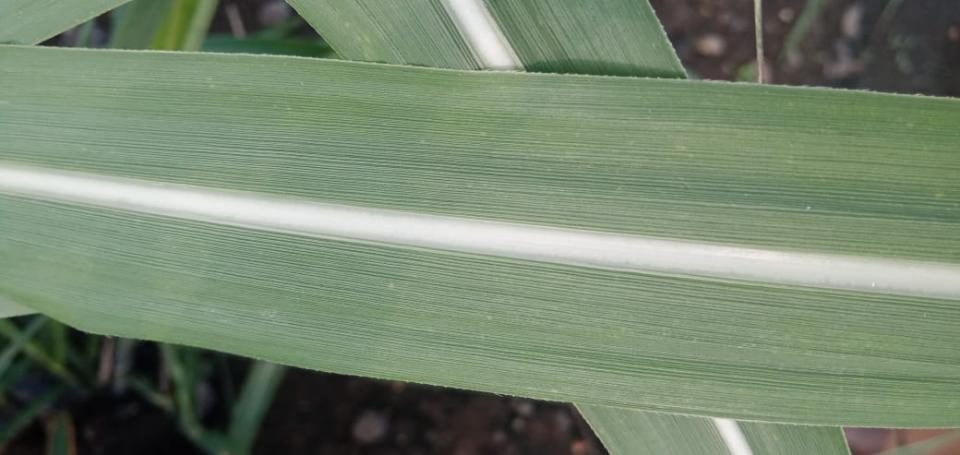Healthy: (0, 45, 959, 427), (288, 0, 688, 78), (575, 403, 848, 454)
